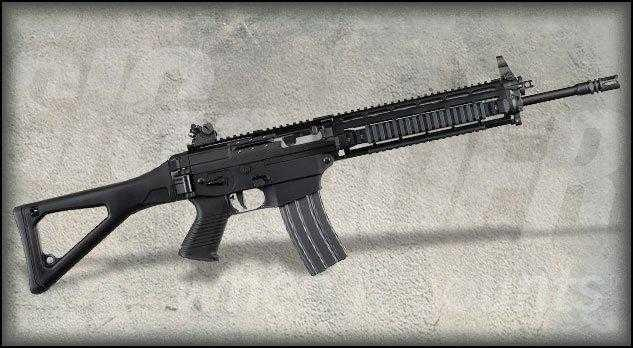heavyweapon: (8, 27, 623, 329)
